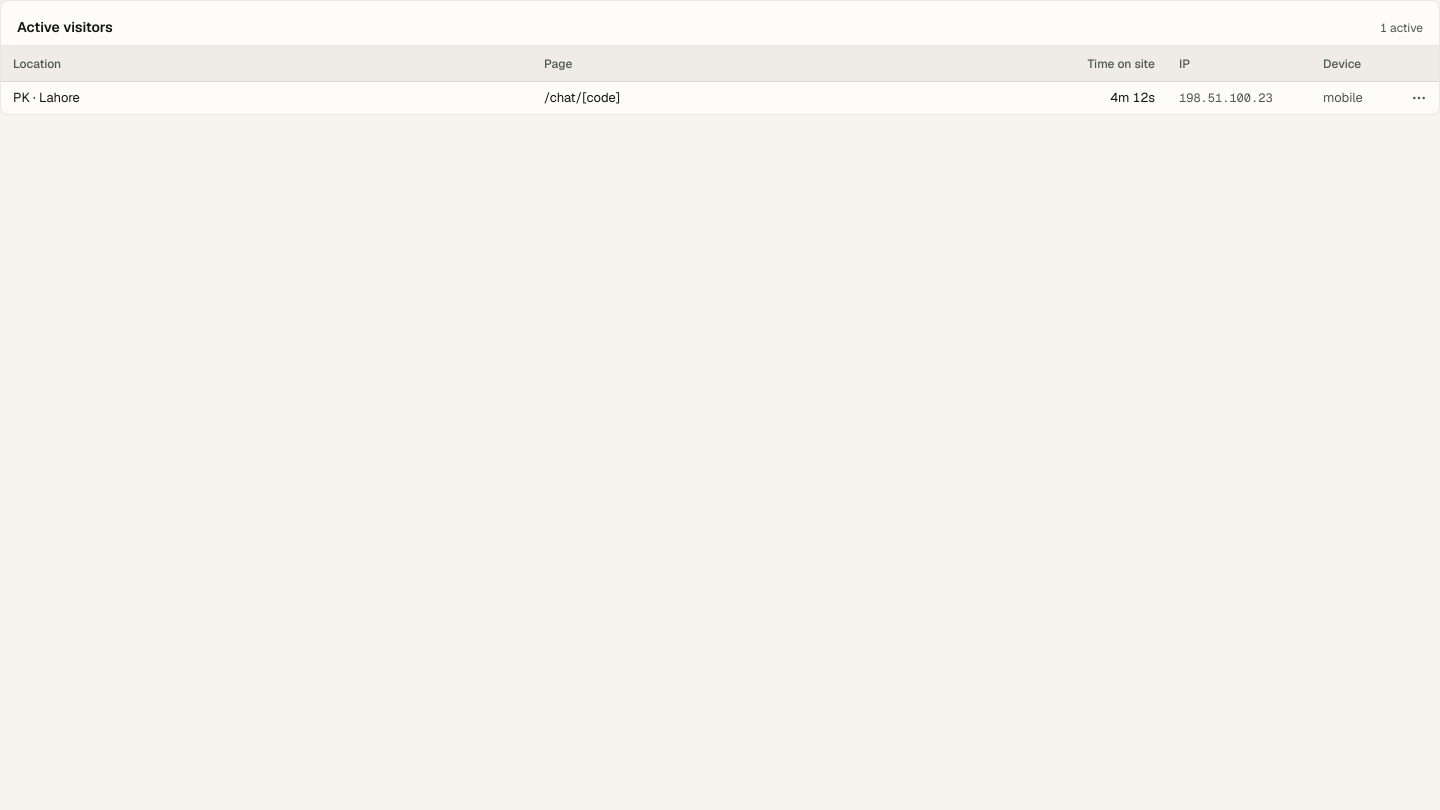
Test: LiveVisitorsTable › "Block this IP…" opens the block dialog with the IP filled in, only for a role that may block
Earlier steps of the test are not shown.
What coordinates should you click on to do the following:
click the button named "Actions for"
I would click on:
 (1419, 98)
Its box is [1403,82,1435,114].
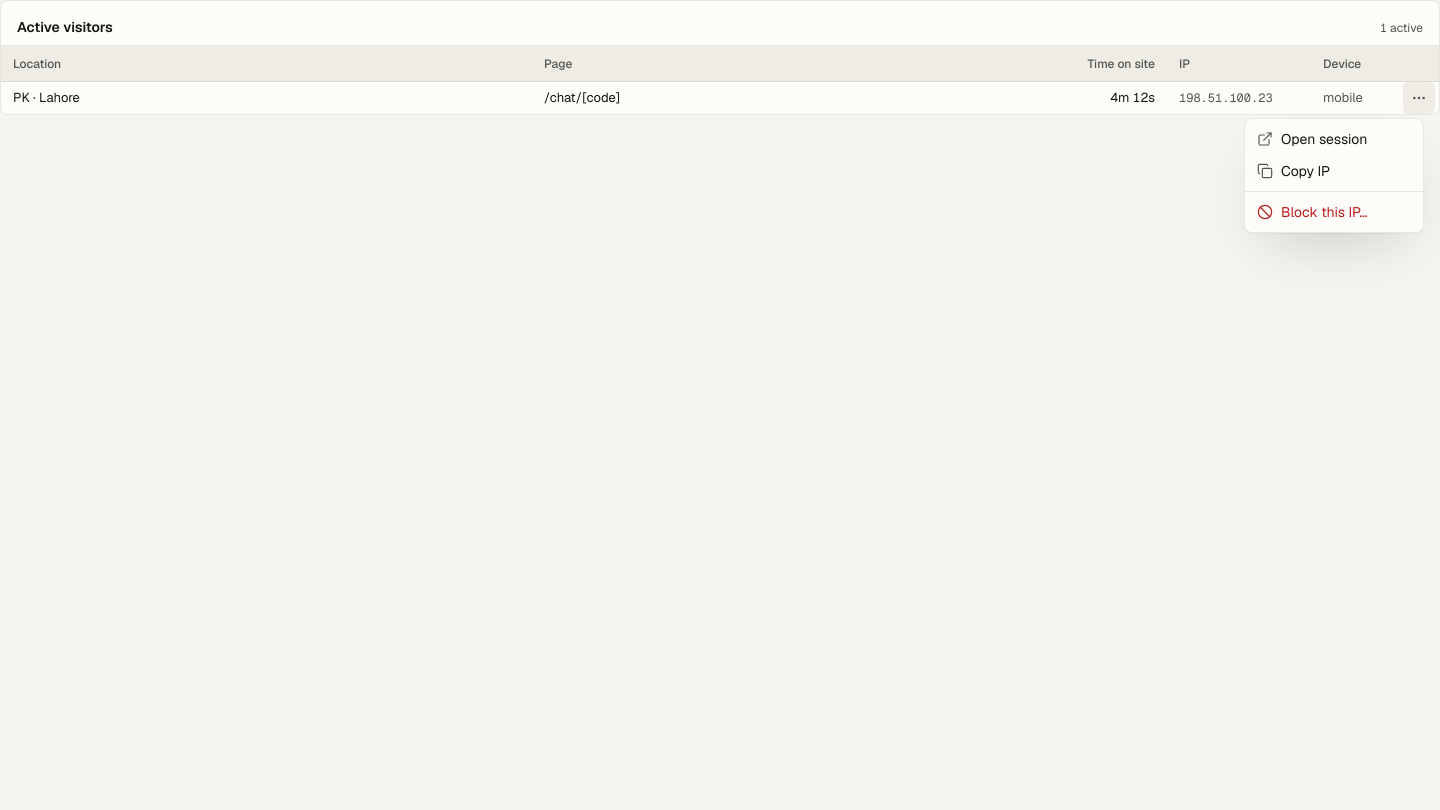
What coordinates should you click on to do the following:
click the menu item "Block this IP…"
I would click on:
 (1312, 212)
Its box is [1257,203,1368,221].
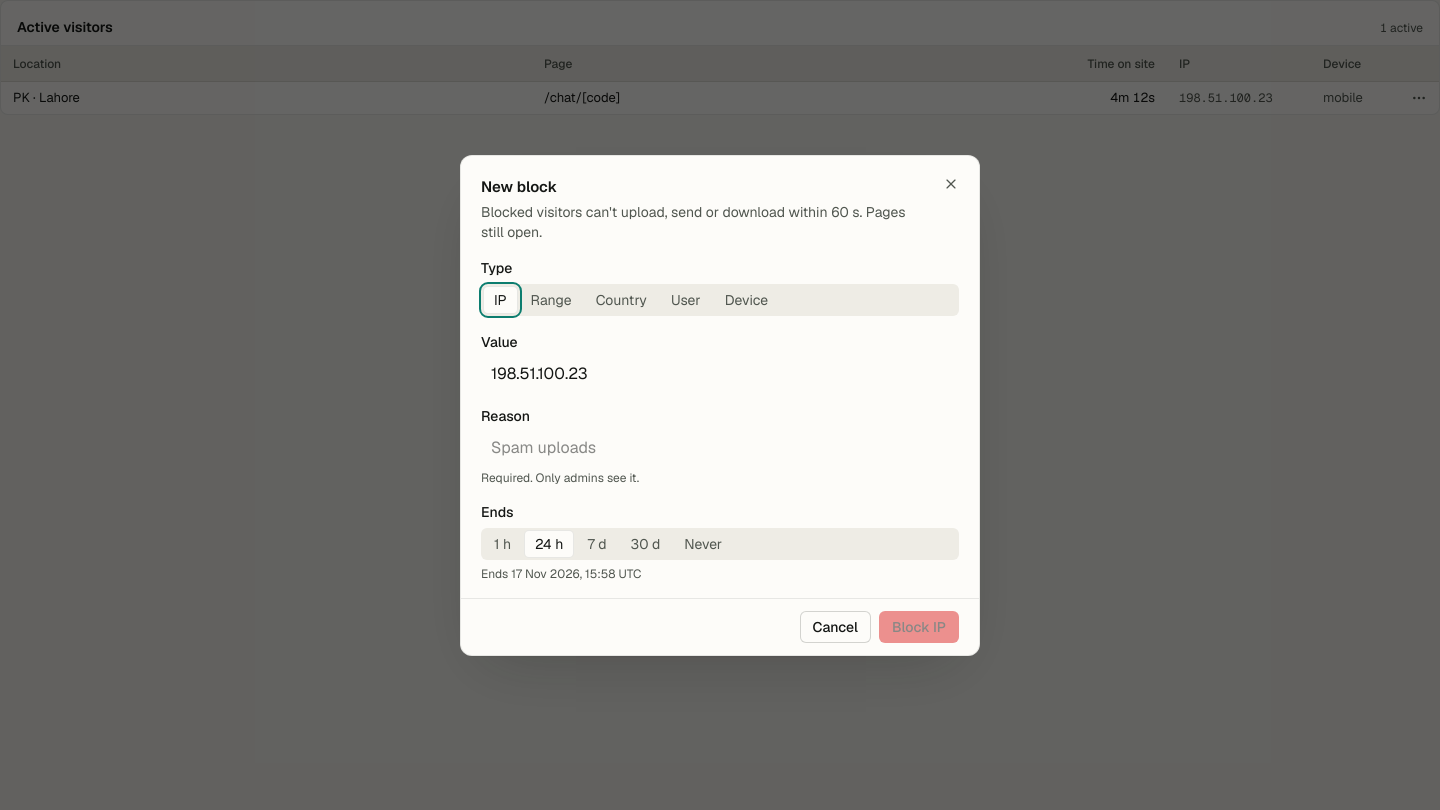
Now the field showing "198.51.100.23" is shown, box [481,358,959,390]
